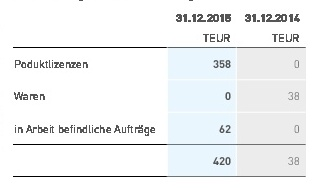table: (0, 0, 325, 189)
